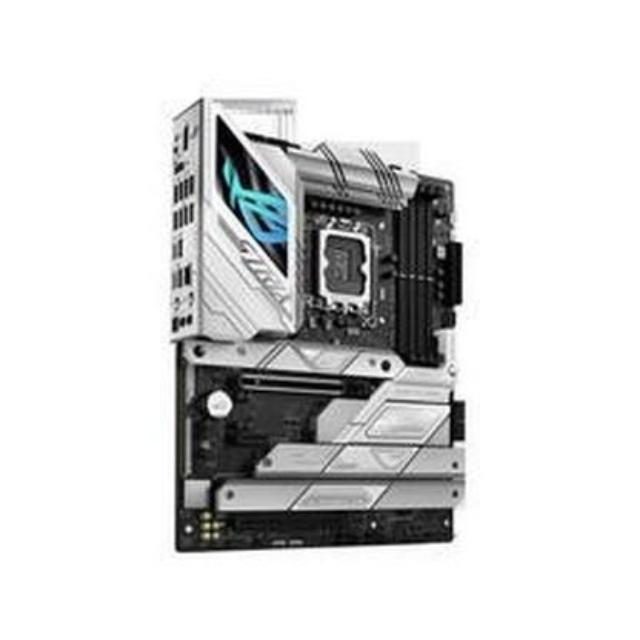Mainboard: (158, 92, 470, 563)
